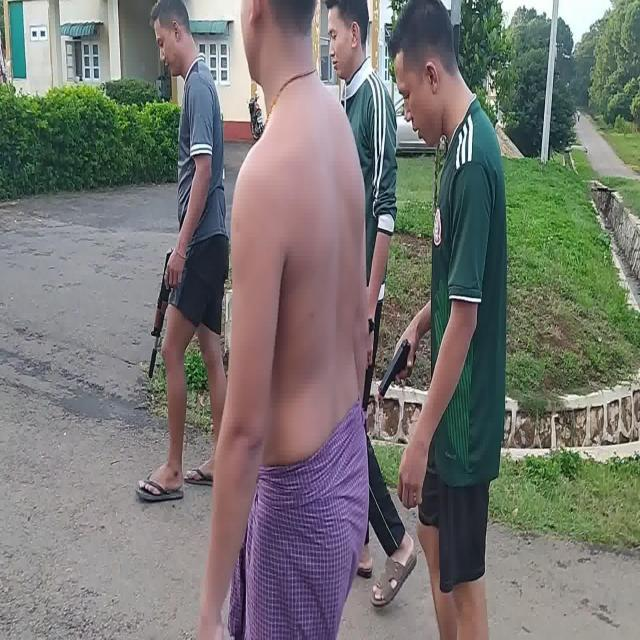gun: (149, 248, 175, 380), (378, 339, 415, 396)
